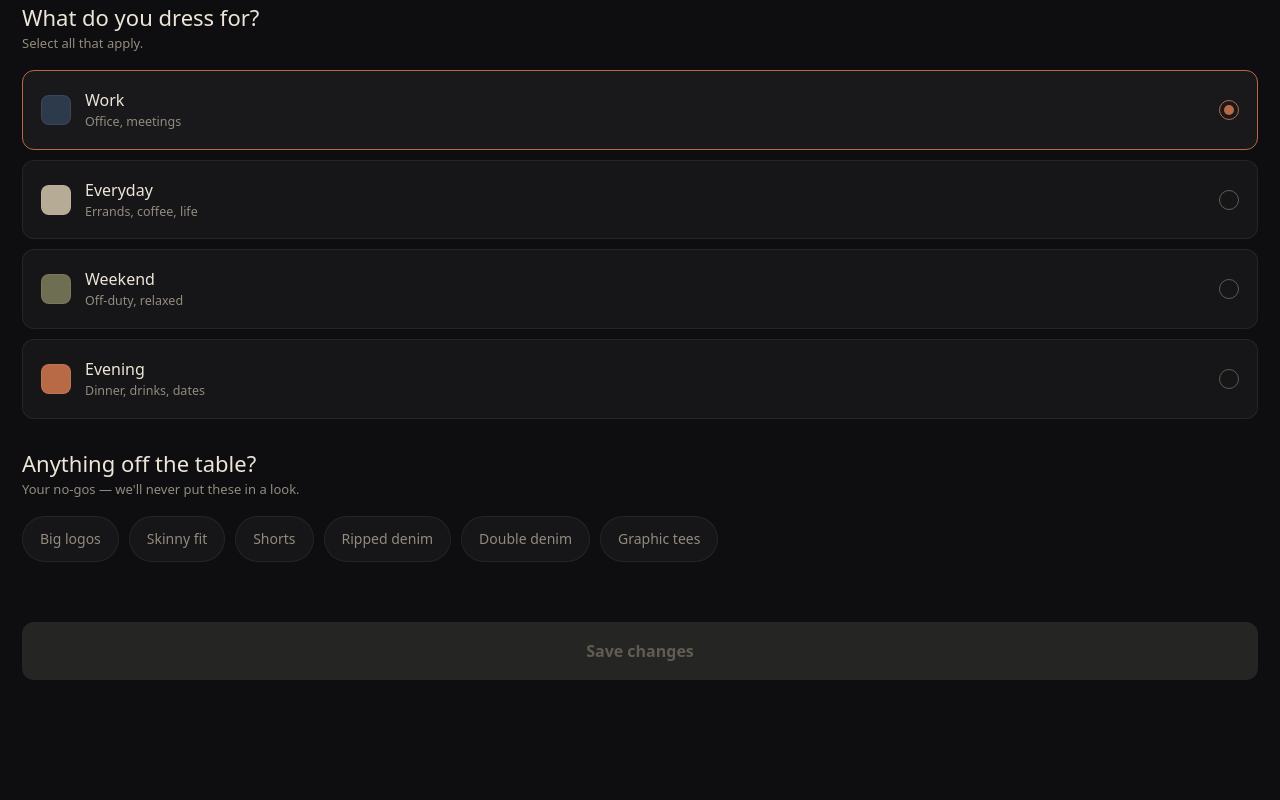
Test: Save waits for a change, then sends the full answer set
(page scrolled)
Check: the button "Save changes" is disabled, box [22,622,1258,680]
Click the button "Shorts": (274, 539) [235,516,314,562]
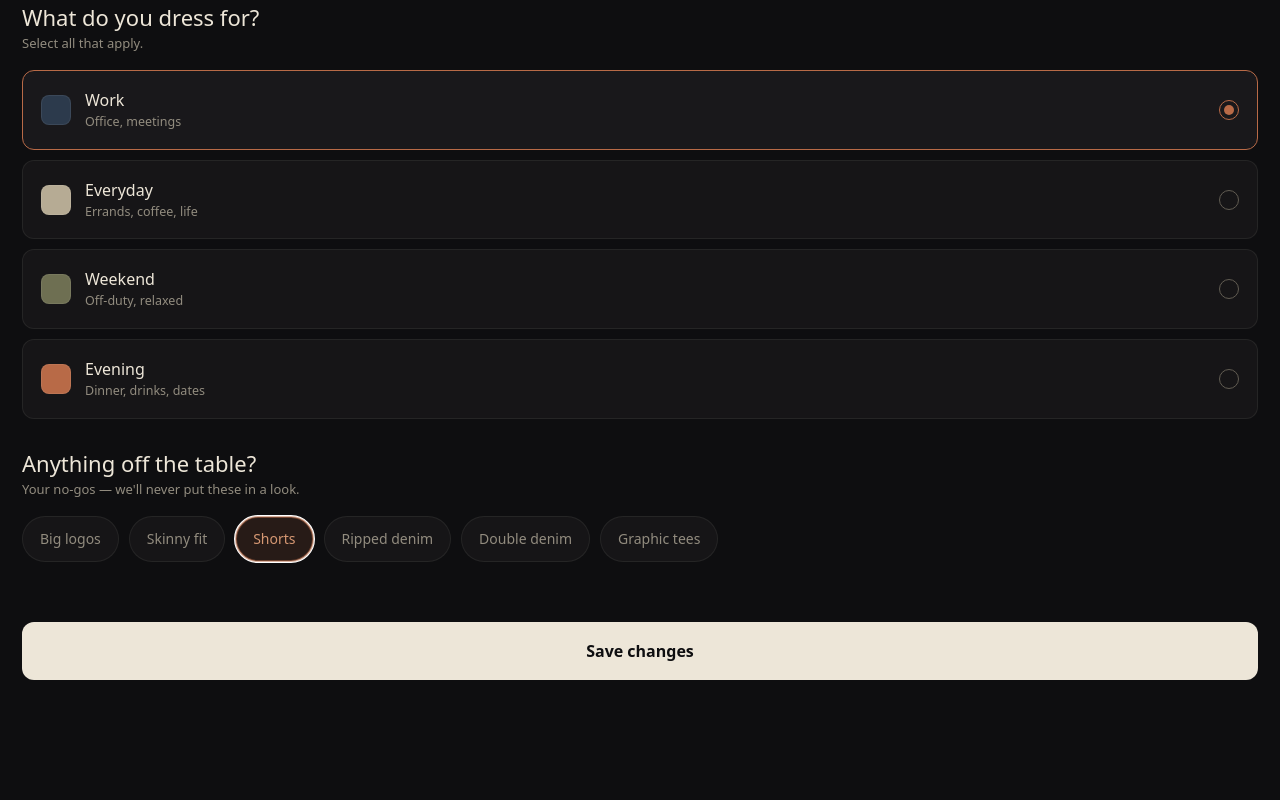
Check: the button "Save changes" is enabled
Click the button "Save changes": (640, 651) [22,622,1258,680]
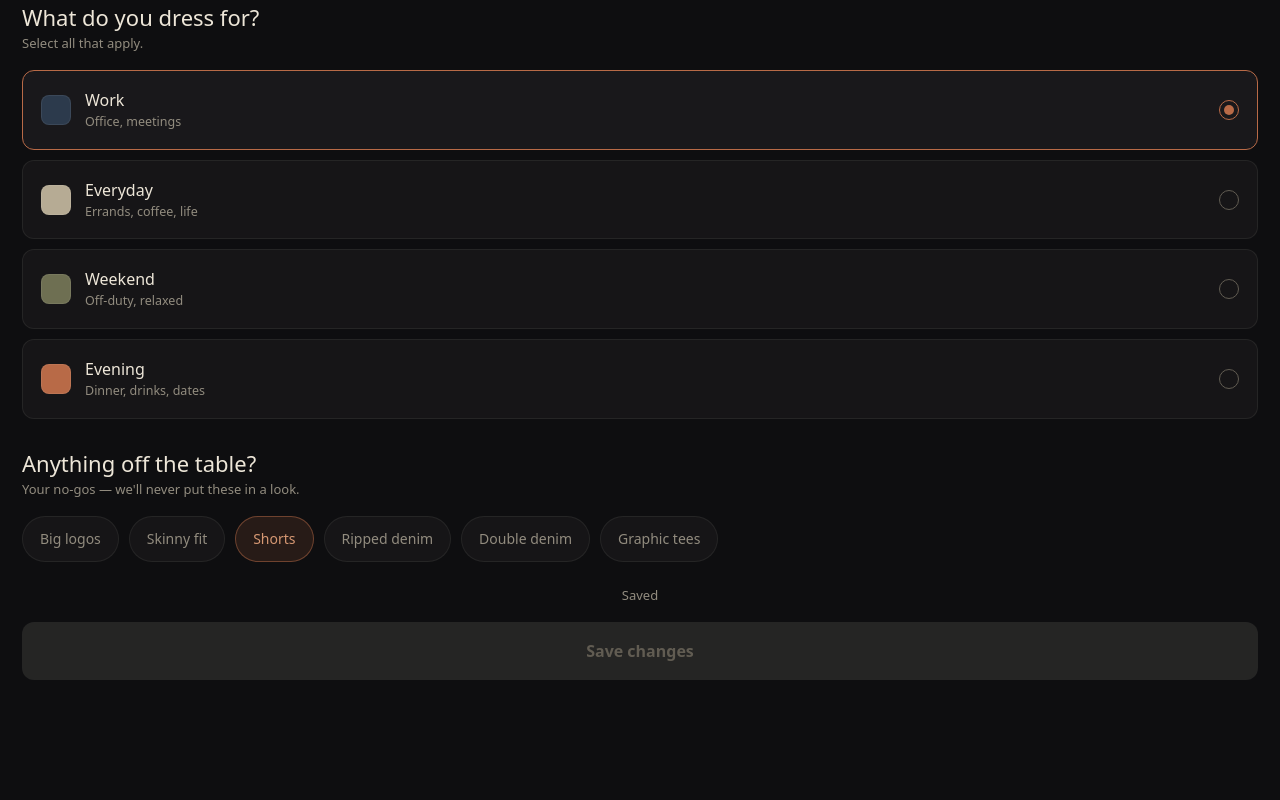
Check: the message reads "Saved", box [622,586,658,604]
Check: the button "Save changes" is disabled, box [22,622,1258,680]
